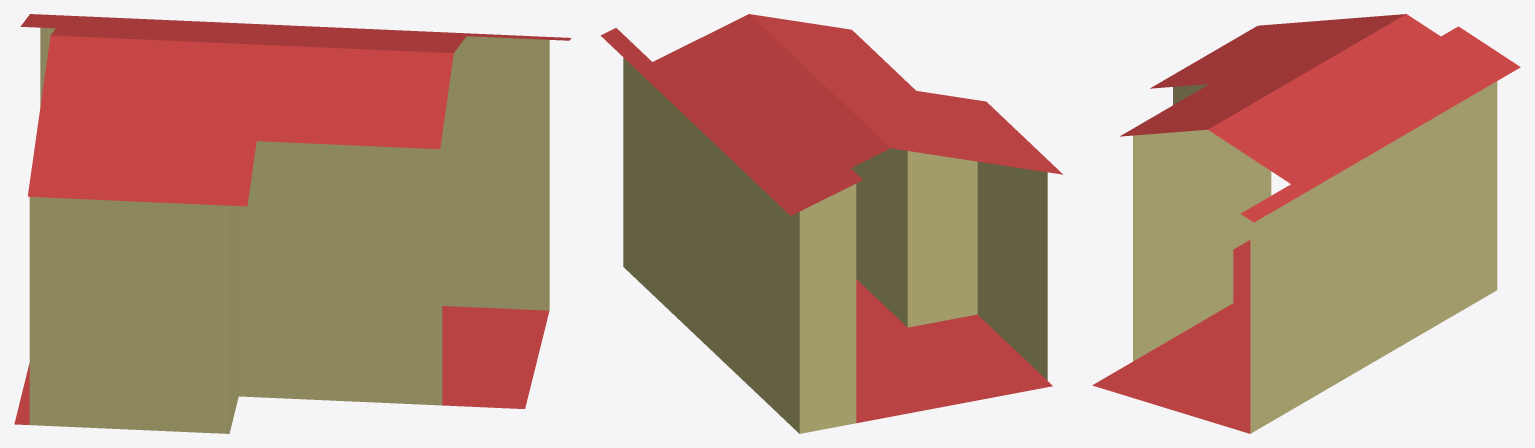
3 renders of one model, left to right at view 1: azimuth 30°, elevation 25°; view 2: azimuth 150°, elevation 25°; view 3: azimuth 270°, elevation 25°, orthographic. The views are drawn at different scales.
Bounding box in the file's own units: 15.53 × 12.75 × 8.36.
